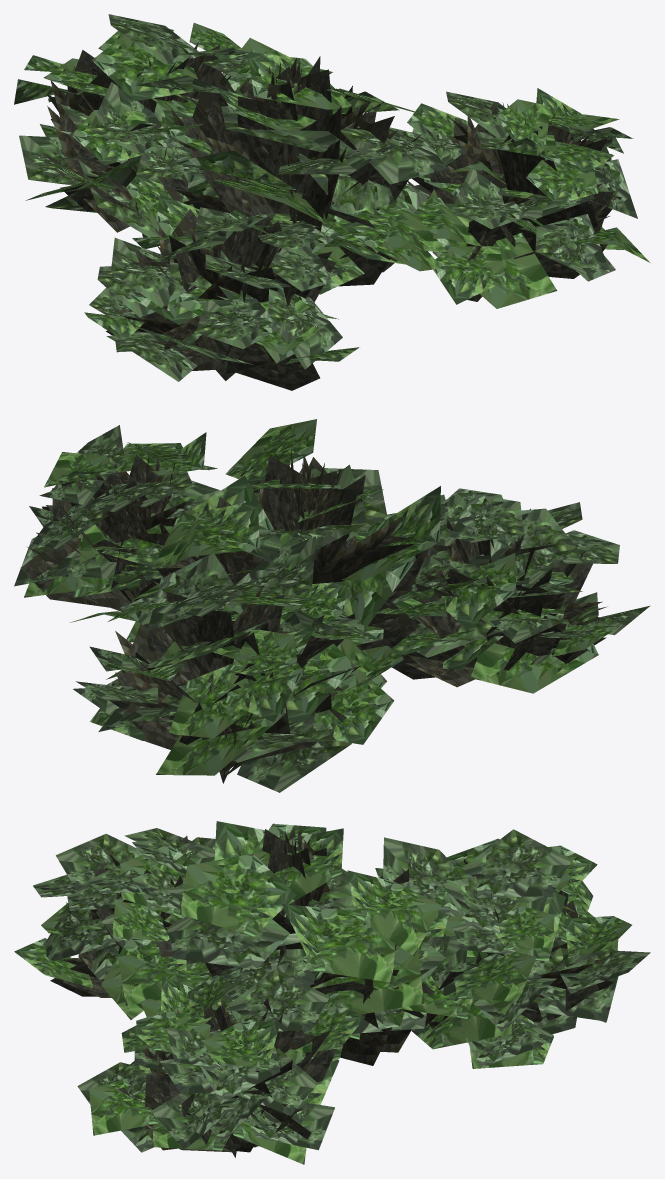
File: SM_Nature_Grass_x3.fbx
3 views of the same model, one above another, from view 1: azimuth 30°, elevation 25°; view 2: azimuth 150°, elevation 25°; view 3: azimuth 270°, elevation 25° (orthographic). The views are drawn at different scales.
Visible parts, largest first — view 1: SM_Nature_Grass_x3_LOD0; view 2: SM_Nature_Grass_x3_LOD0; view 3: SM_Nature_Grass_x3_LOD0.
Boxes of the visible parts, x1,y1,x2,y2 form: SM_Nature_Grass_x3_LOD0: (14, 14, 649, 390); SM_Nature_Grass_x3_LOD0: (14, 419, 650, 792); SM_Nature_Grass_x3_LOD0: (14, 821, 650, 1164).
Bounding box in the file's own units: 284 × 290 × 117.
Materials: 1 (1 with a texture image).
